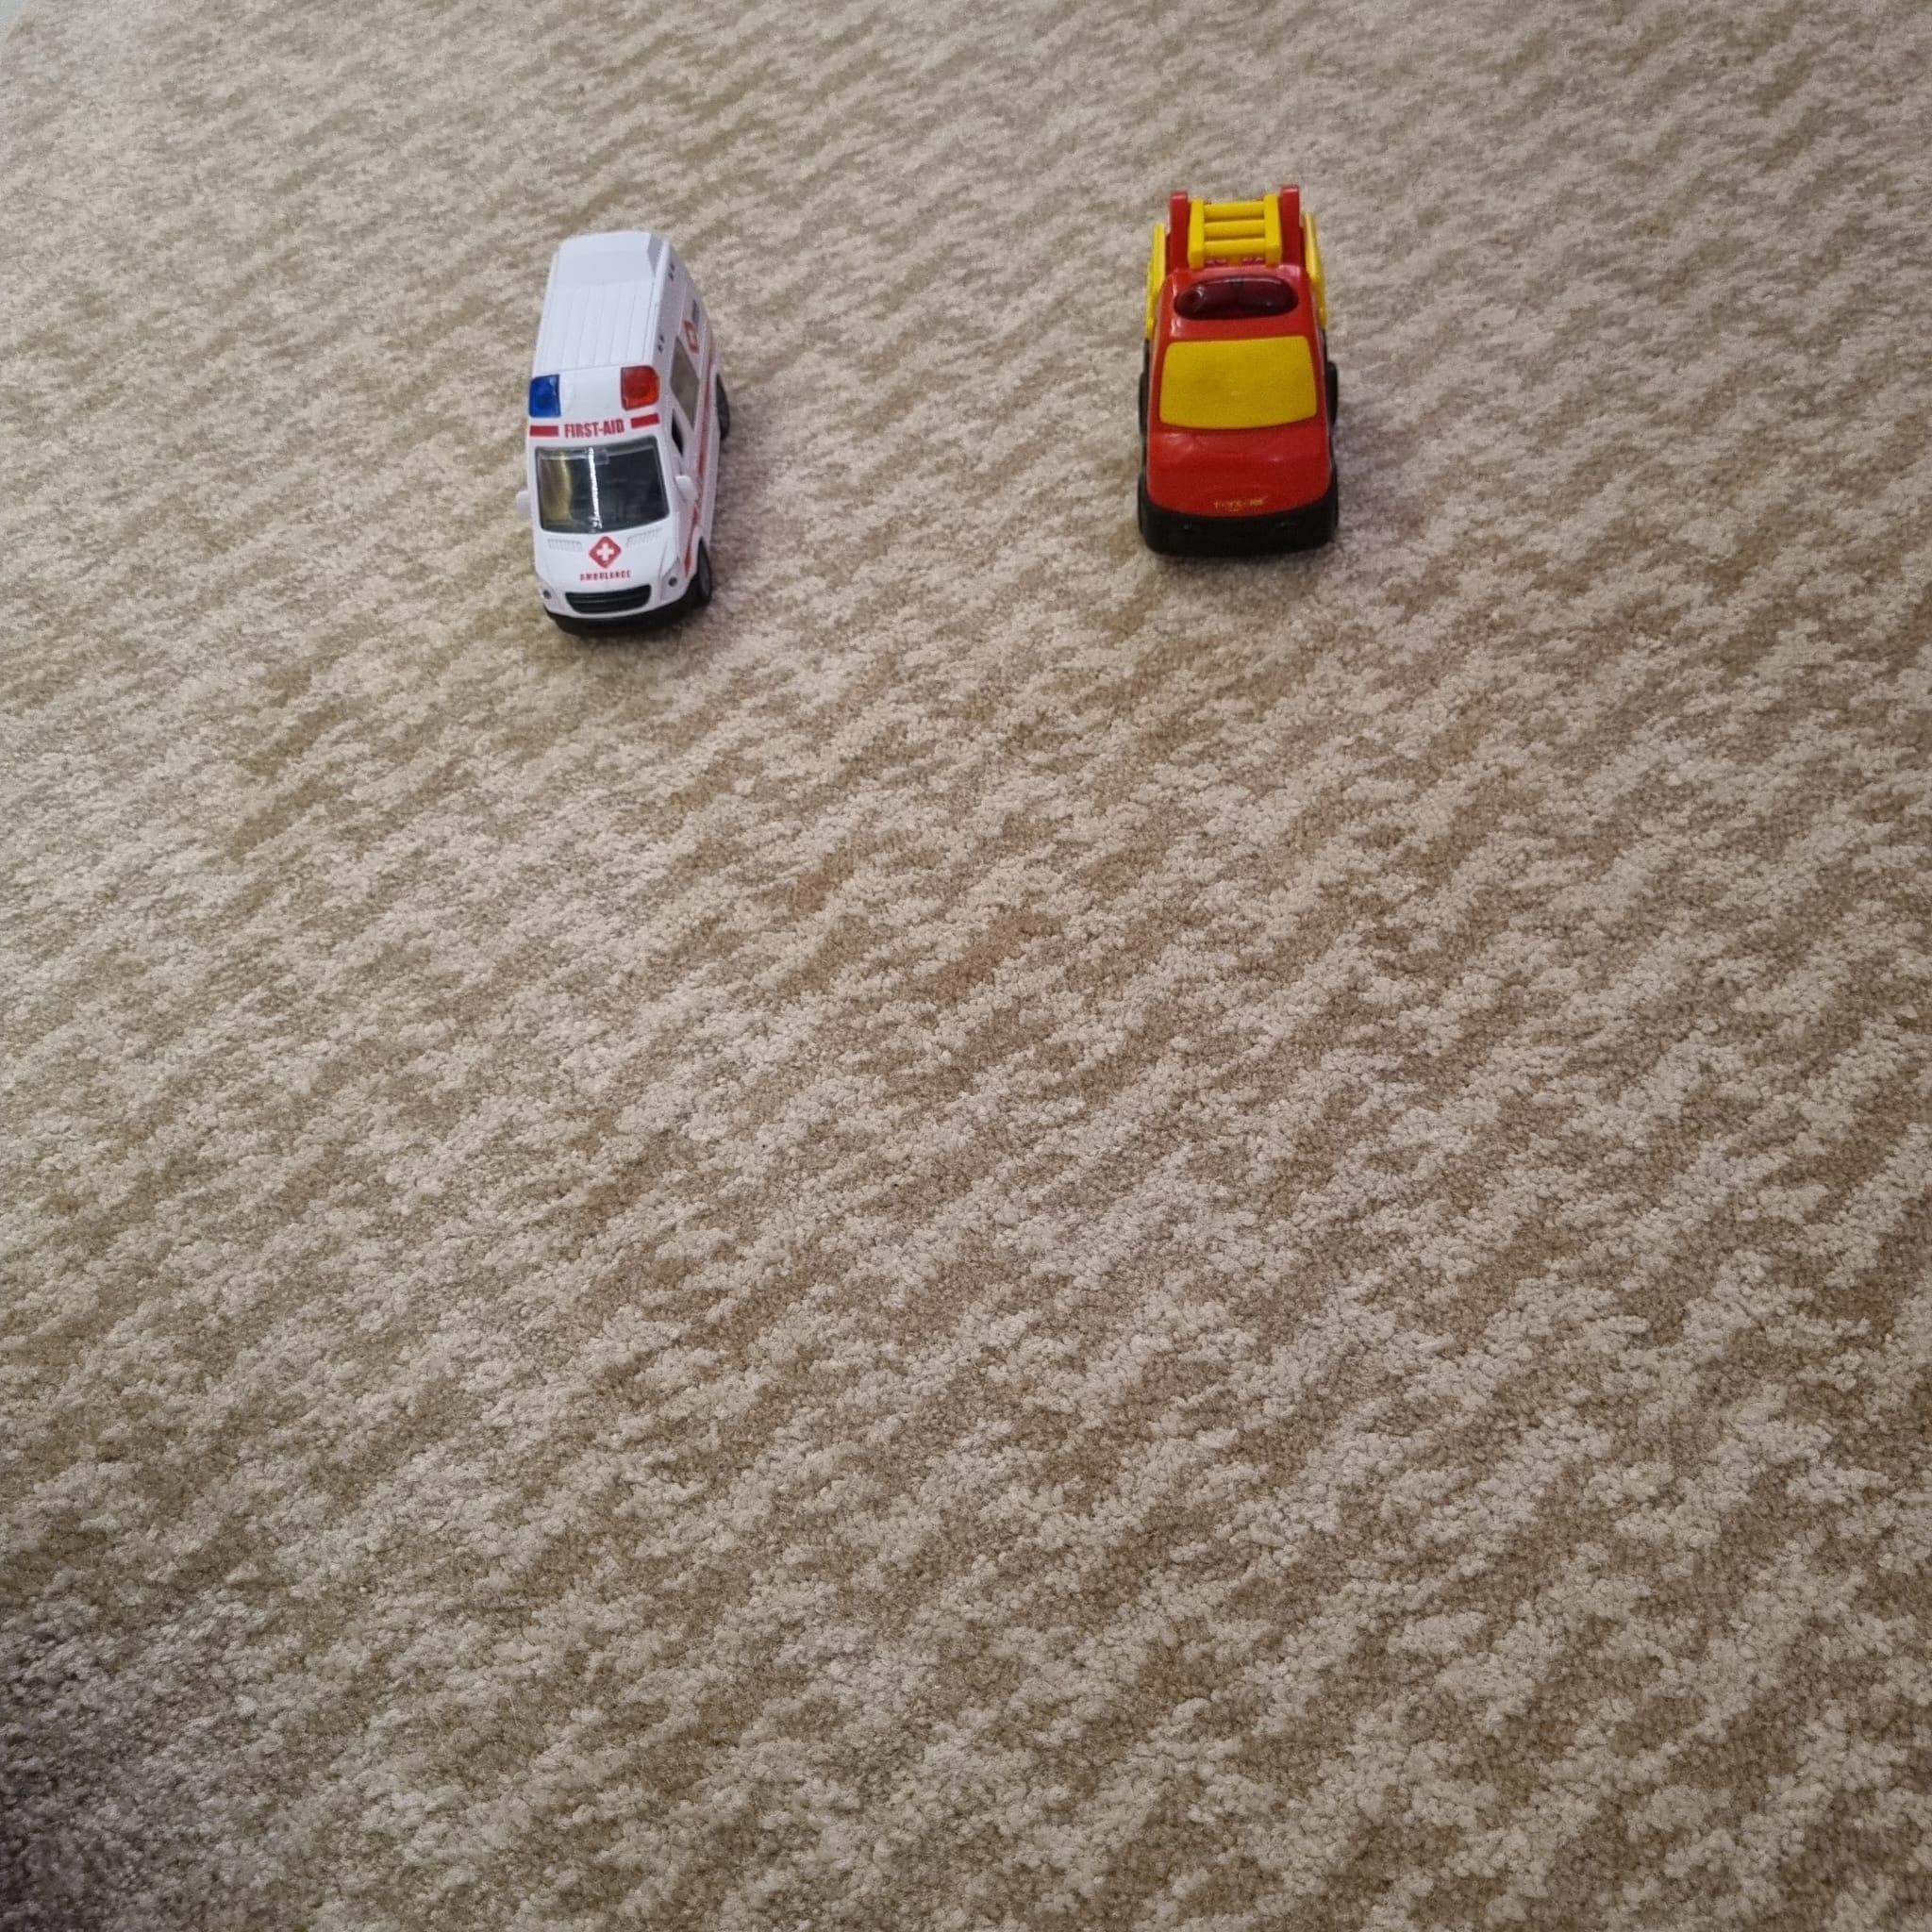ambulance_off: (522, 226, 729, 635)
firetruck_off: (1138, 188, 1339, 559)
